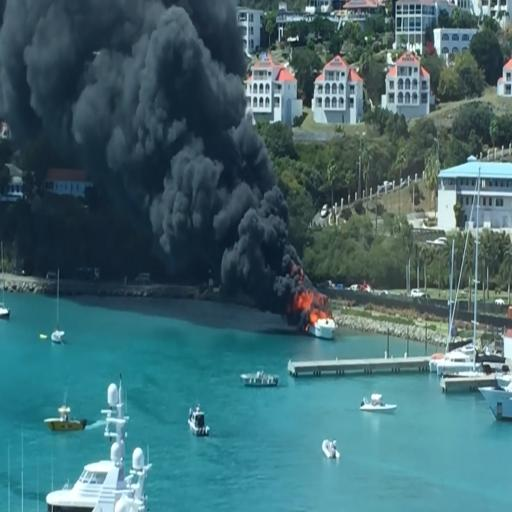smoke: (0, 2, 247, 146), (115, 5, 238, 261), (144, 130, 276, 274), (221, 174, 291, 295)
